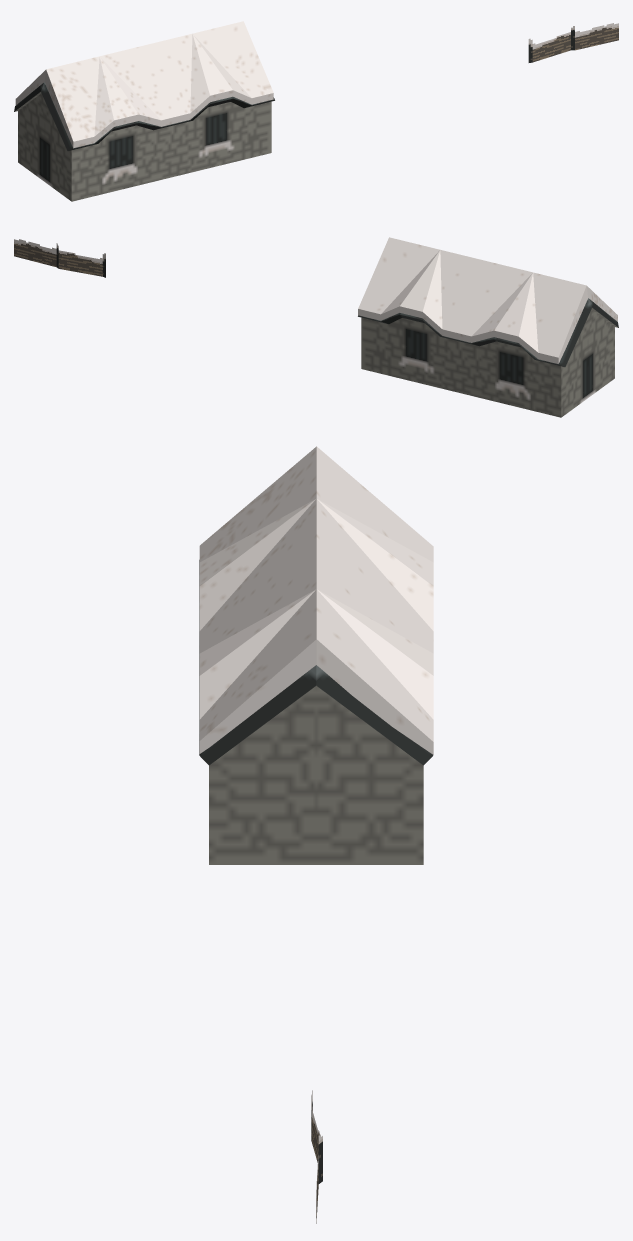
The model's file is building1.fbx.
The picture shows the model from 3 angles, top to bottom: view 1: azimuth 30°, elevation 25°; view 2: azimuth 150°, elevation 25°; view 3: azimuth 270°, elevation 25°; orthographic projection. The views are drawn at different scales.
Parts seen in each view (by area): view 1: building1, fence; view 2: building1, fence; view 3: building1.
Part boxes in pixels (bbox=[...]): building1: bbox=[14, 21, 274, 201]; fence: bbox=[528, 23, 618, 62]; building1: bbox=[358, 237, 618, 417]; fence: bbox=[14, 239, 105, 277]; building1: bbox=[199, 446, 433, 864].
Bounding box in the file's own units: 1245 × 231 × 218.
